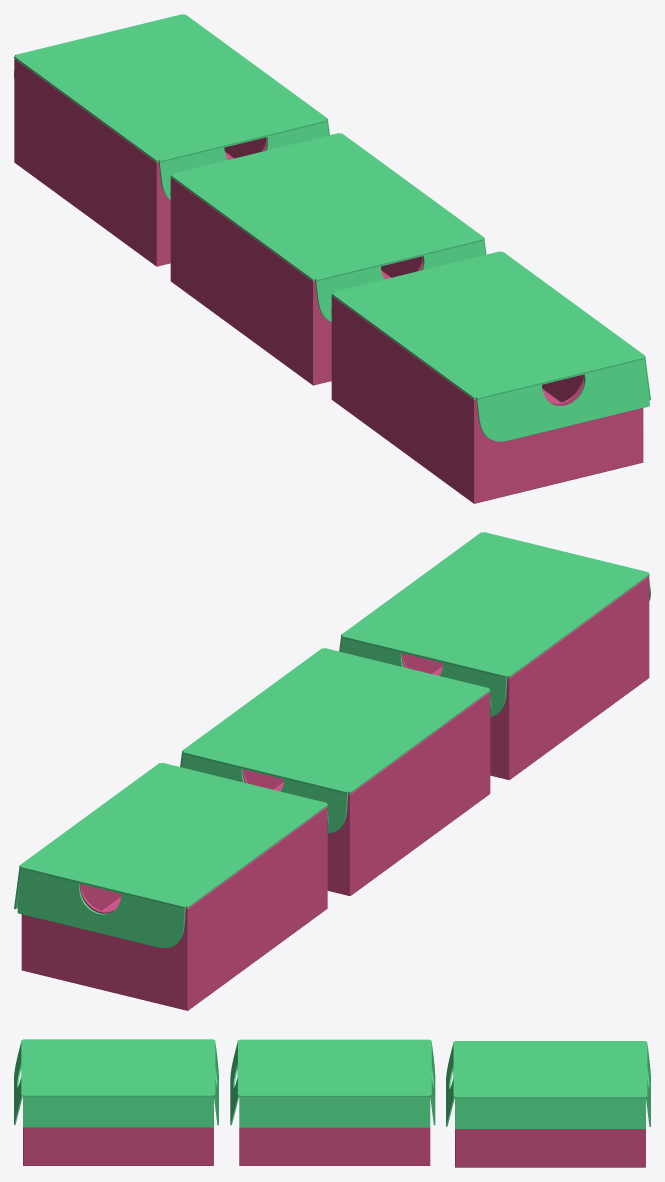
File: Korobka_1.obj
The picture shows the model from 3 angles, top to bottom: view 1: azimuth 30°, elevation 25°; view 2: azimuth 150°, elevation 25°; view 3: azimuth 270°, elevation 25°; orthographic projection. The views are drawn at different scales.
Visible parts, largest first — view 1: Box010, Box012, Box008, Box011, Box013, Box009; view 2: Box008, Box012, Box010, Box009, Box013, Box011; view 3: Box012, Box008, Box010, Box013, Box011, Box009.
Boxes of the visible parts, <box> form: Box010: <box>331,251,650,441</box>; Box012: <box>170,133,486,321</box>; Box008: <box>14,14,329,200</box>; Box011: <box>331,296,643,503</box>; Box013: <box>170,177,422,385</box>; Box009: <box>14,58,266,266</box>; Box008: <box>14,763,329,948</box>; Box012: <box>180,648,491,833</box>; Box010: <box>339,532,650,716</box>; Box009: <box>21,806,327,1010</box>; Box013: <box>242,692,490,895</box>; Box011: <box>401,576,649,780</box>; Box012: <box>230,1039,435,1127</box>; Box008: <box>446,1041,650,1129</box>; Box010: <box>14,1039,218,1127</box>; Box013: <box>239,1127,430,1165</box>; Box011: <box>23,1127,213,1165</box>; Box009: <box>455,1129,645,1167</box>.
Bounding box in the file's own units: 952 × 533 × 4305.
